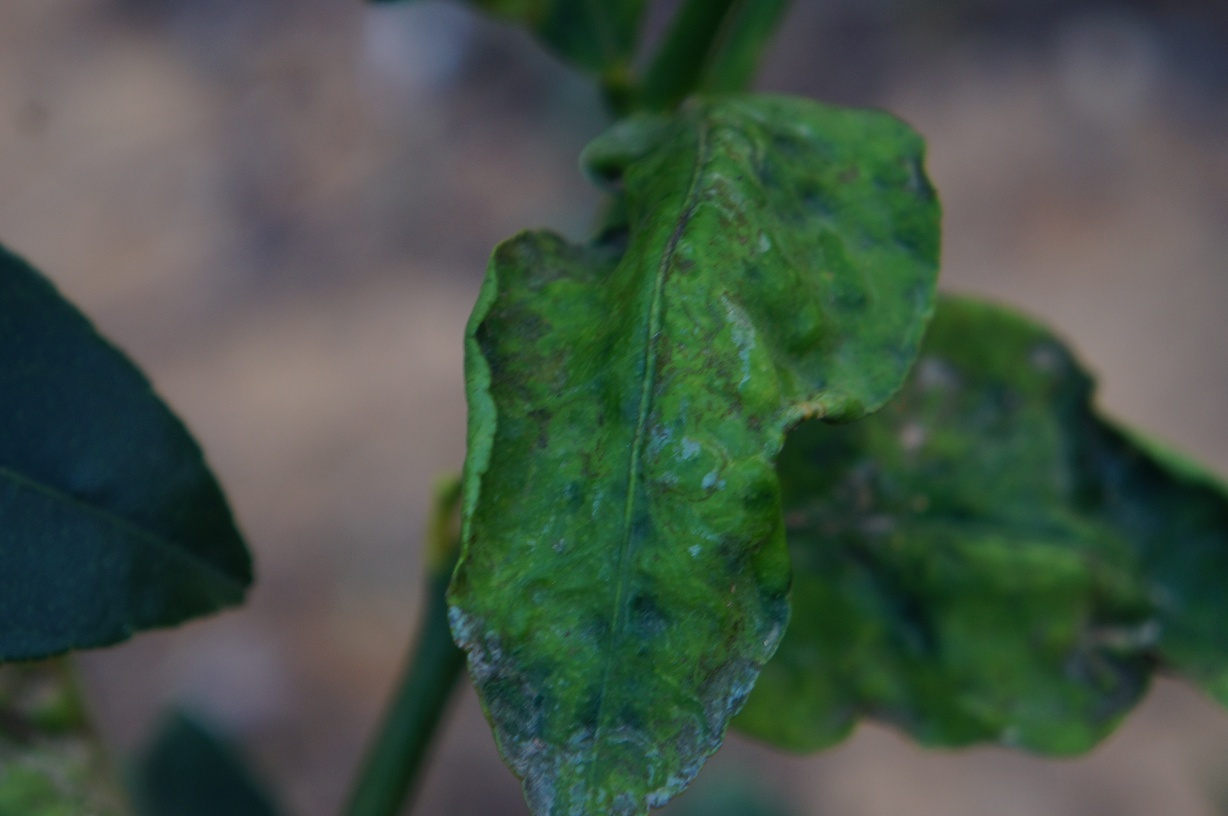curly: (444, 80, 946, 816)
